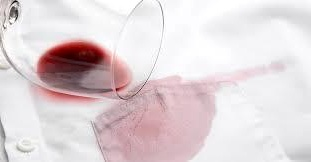wine: (98, 76, 225, 162), (195, 55, 275, 97)
